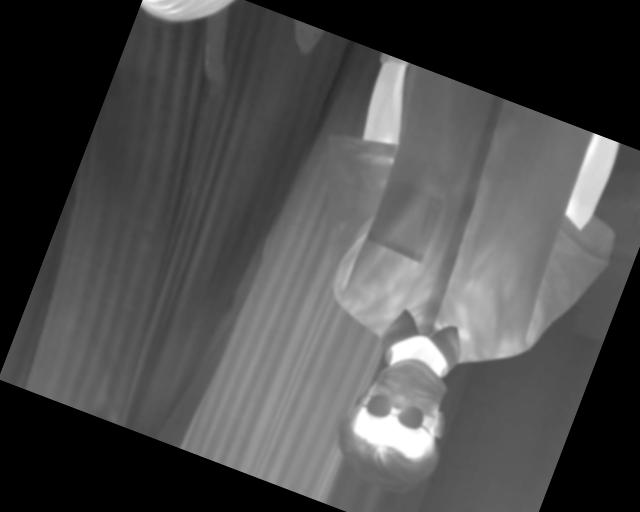face: (209, 275, 298, 376)
